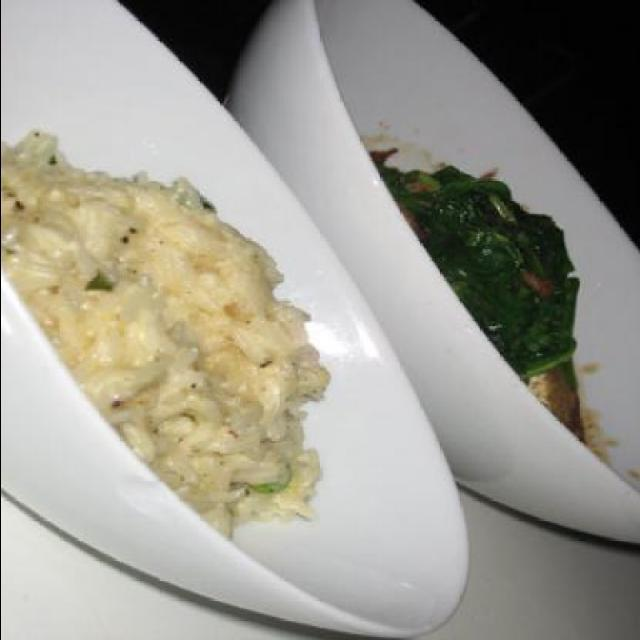Risotto: (17, 146, 317, 514)
